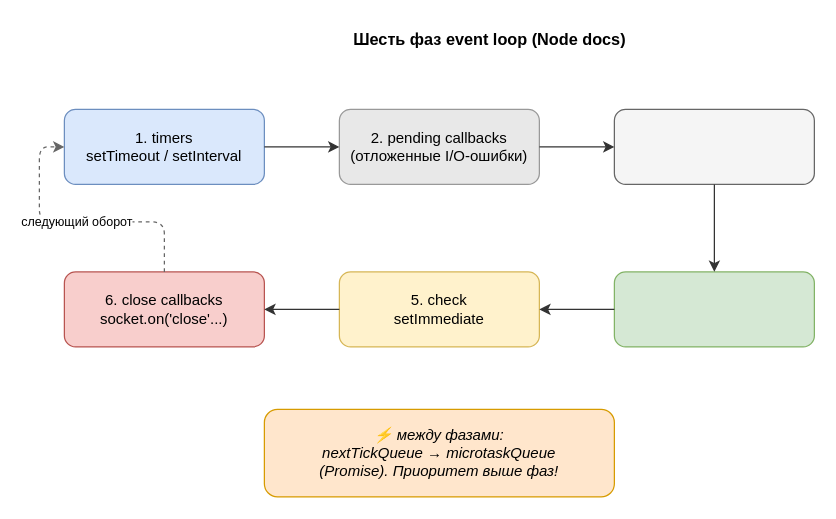
Some shapes in this 836 by 519 pixel diagram are drawn without their labels. Here are the shapes that lost their labels. From the top down, the centre of each, then its label:
pixel 713 146: 3. idle, prepare (internal only)
pixel 713 309: 4. poll ◄── блок здесь (новые I/O-события, epoll)
